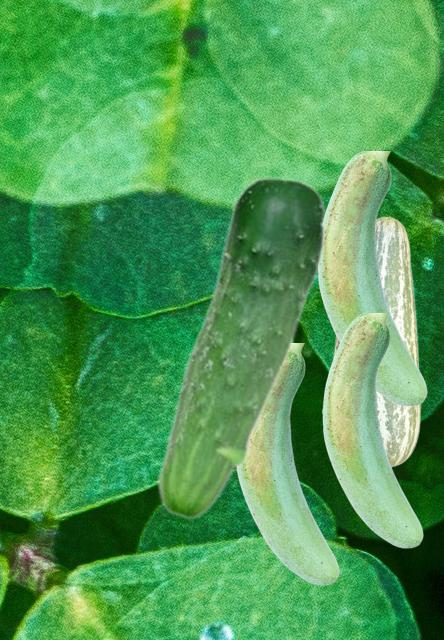cucumber: (155, 176, 326, 519), (317, 151, 426, 405), (236, 343, 338, 584), (322, 313, 422, 547), (333, 216, 420, 467)
